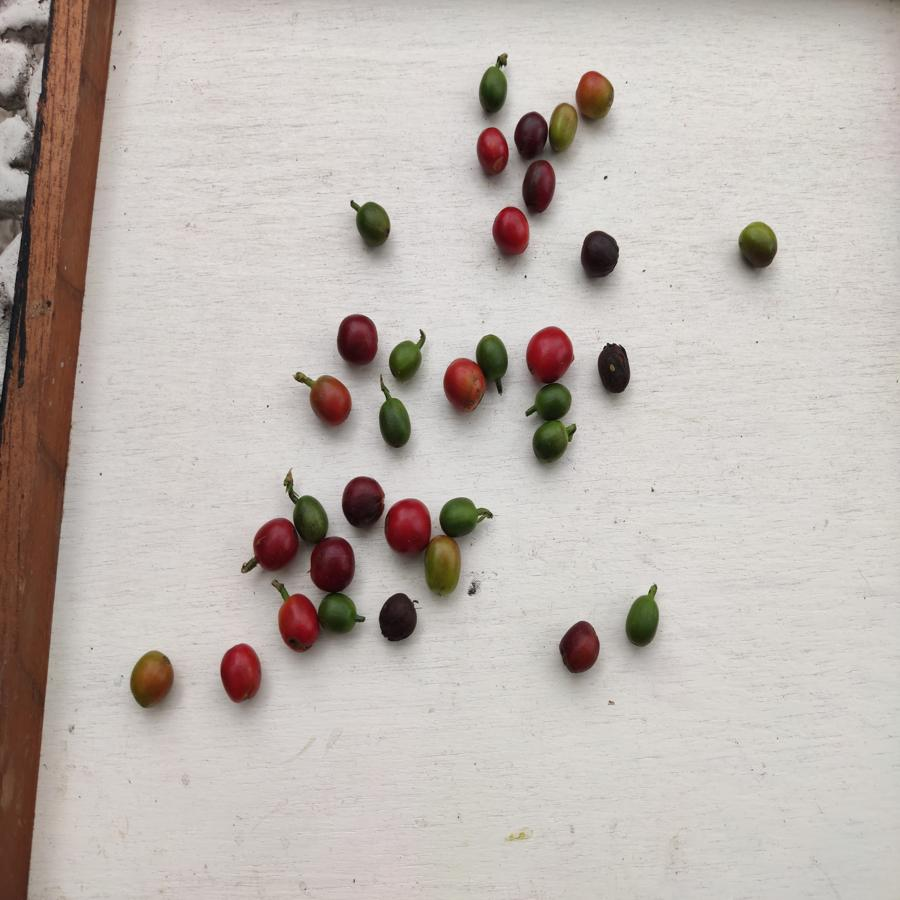Inmaduro: (624, 593, 662, 648), (291, 491, 329, 543), (316, 592, 361, 635), (355, 198, 393, 248), (531, 382, 575, 423), (476, 64, 511, 114), (379, 396, 412, 448), (439, 497, 479, 539), (477, 334, 511, 383), (387, 338, 424, 381), (532, 421, 569, 463)
Maduro: (524, 324, 575, 383), (385, 496, 431, 558), (307, 371, 353, 430), (276, 590, 318, 654), (221, 641, 264, 703), (251, 516, 297, 571), (442, 358, 482, 415), (492, 205, 531, 256), (473, 126, 511, 177)
Pinton: (127, 649, 177, 711), (421, 531, 463, 599), (739, 218, 782, 275), (574, 68, 617, 123), (549, 101, 579, 151)
Sobremaduro: (309, 538, 357, 594), (557, 617, 601, 675), (336, 312, 379, 368), (376, 591, 422, 643), (341, 475, 385, 529), (578, 228, 621, 280), (521, 160, 558, 216), (596, 339, 633, 394), (515, 108, 548, 159)
